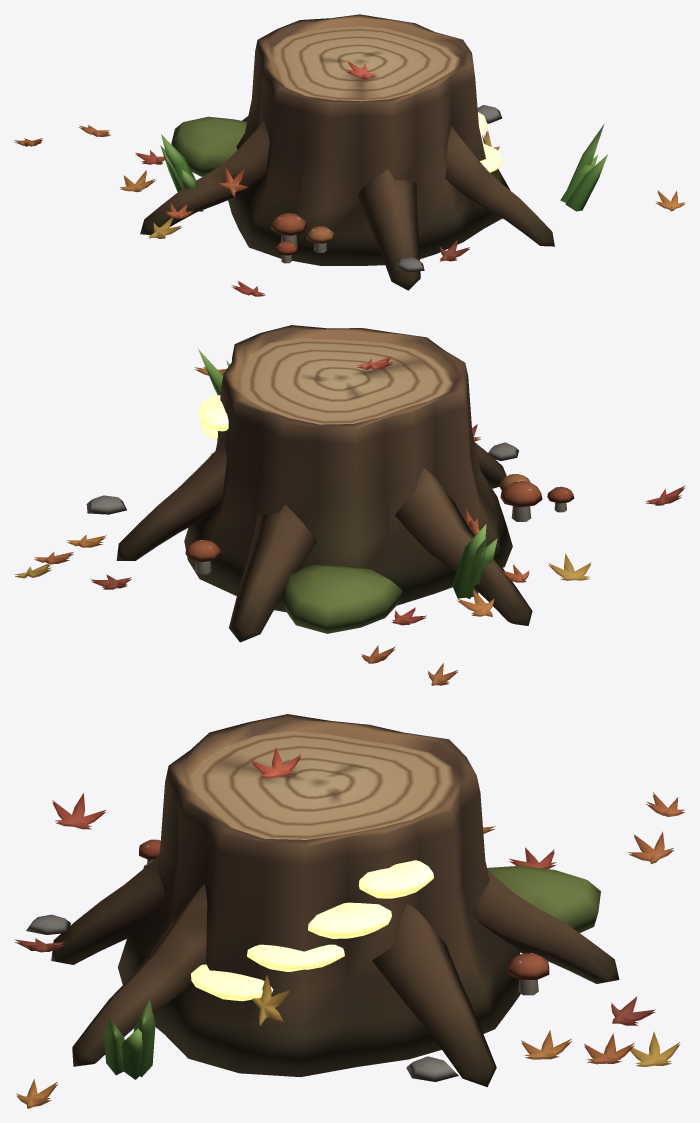
Rendered from dg-maple-stump.glb.
3 renders of one model, top to bottom at view 1: azimuth 30°, elevation 25°; view 2: azimuth 150°, elevation 25°; view 3: azimuth 270°, elevation 25°, orthographic. The views are drawn at different scales.
Parts seen in each view (by area): view 1: body, leaf, stone, glow; view 2: body, stone, leaf, glow; view 3: body, leaf, glow, stone.
Part boxes in pixels (x1=…): body: x1=140, y1=14, x2=554, y2=290; leaf: x1=14, y1=61, x2=685, y2=296; stone: x1=171, y1=105, x2=502, y2=272; glow: x1=478, y1=112, x2=502, y2=172; body: x1=116, y1=325, x2=574, y2=642; stone: x1=86, y1=442, x2=518, y2=633; leaf: x1=15, y1=349, x2=685, y2=685; glow: x1=198, y1=395, x2=228, y2=440; body: x1=51, y1=714, x2=619, y2=1087; leaf: x1=14, y1=747, x2=684, y2=1108; glow: x1=191, y1=860, x2=433, y2=1001; stone: x1=26, y1=865, x2=600, y2=1081.
Bounding box in the file's own units: 1.94 × 0.6738 × 1.8.
